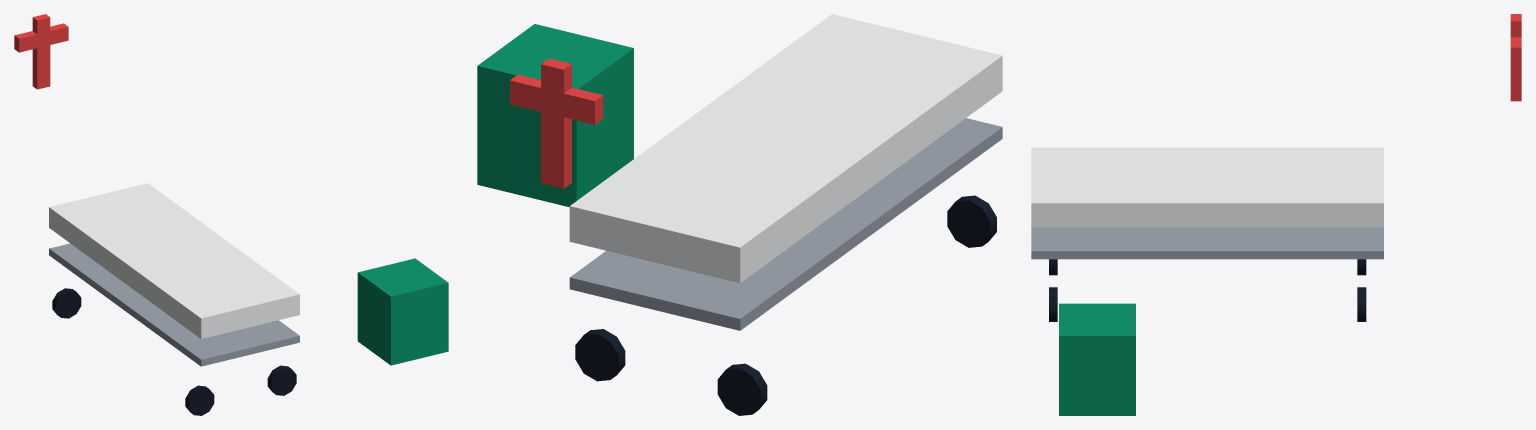
File: hospital.glb
3 renders of one model, left to right at view 1: azimuth 30°, elevation 25°; view 2: azimuth 150°, elevation 25°; view 3: azimuth 270°, elevation 25°, orthographic. The views are drawn at different scales.
Size of what is drawn, in the model's own units: 1.6 by 1.4 by 2.23.
